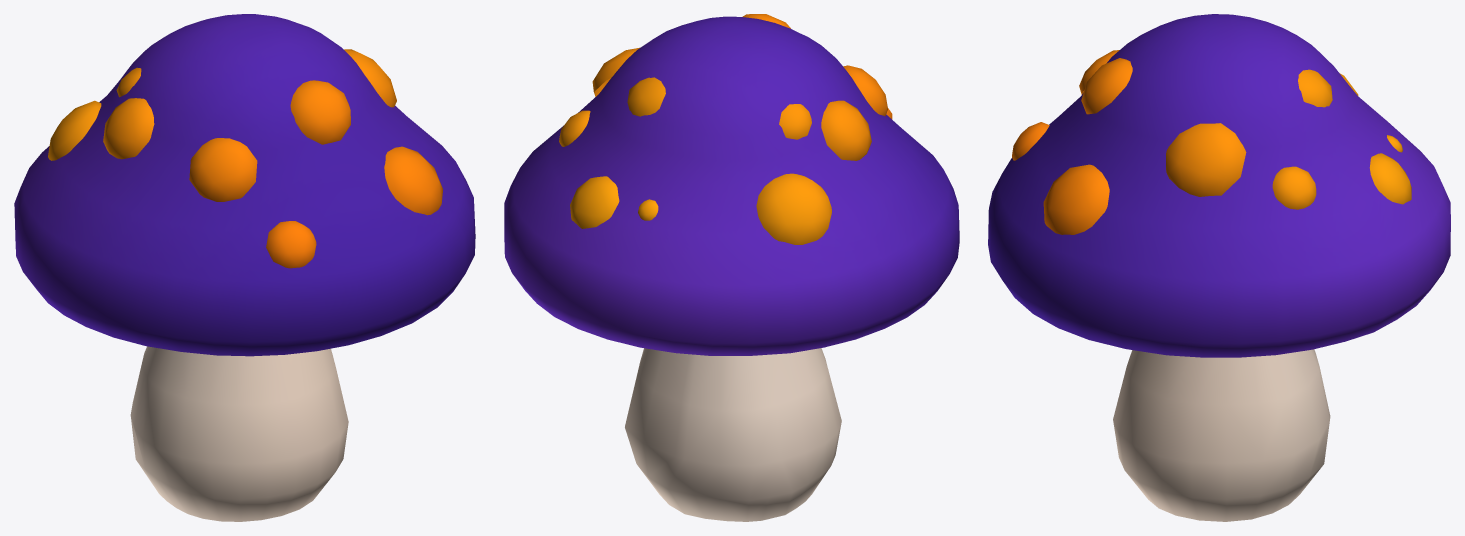
Rendered from mushroom 04.fbx.
The picture shows the model from 3 angles, left to right: view 1: azimuth 30°, elevation 25°; view 2: azimuth 150°, elevation 25°; view 3: azimuth 270°, elevation 25°; orthographic projection.
Visible parts, largest first — view 1: Mushroom_0001_0004; view 2: Mushroom_0001_0004; view 3: Mushroom_0001_0004.
Boxes of the visible parts, x1,y1,x2,y2 form: Mushroom_0001_0004: (14,14,475,521); Mushroom_0001_0004: (504,14,959,521); Mushroom_0001_0004: (988,14,1450,521).
Size of the model in its own units: 21.6 by 23.77 by 21.62.
1 material, 1 textured.
